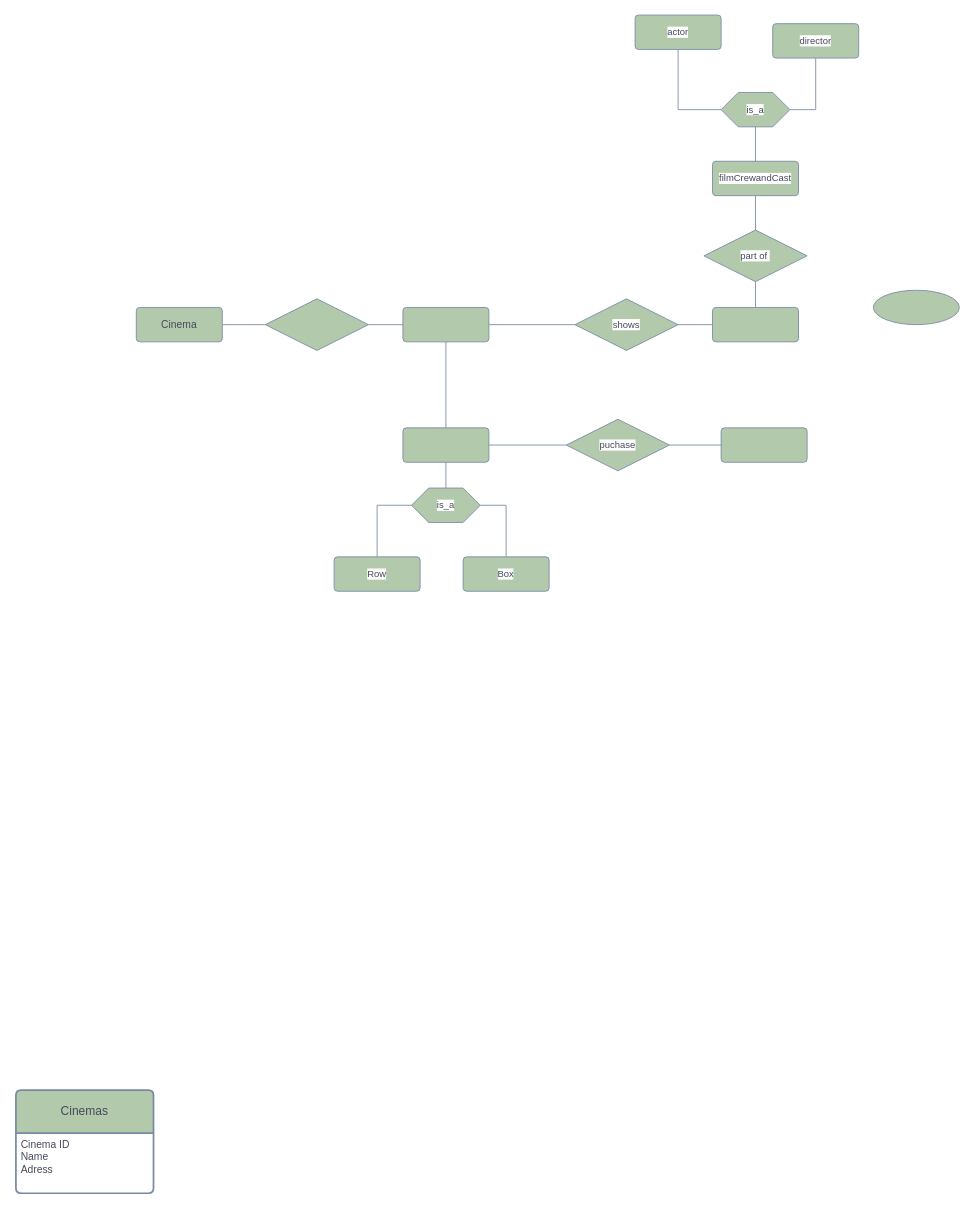
This 974x1209 diagram has some shape labels left out. The shapes that lost their labels are listed below. From the top down, each one's centre as x and y in pixels, then its label:
At [316,324]: "contain".
At [445,324]: "Hall".
At [755,324]: "Films".
At [915,307]: "aditionalFee".
At [445,444]: "Seating".
At [763,444]: "Ticket".
